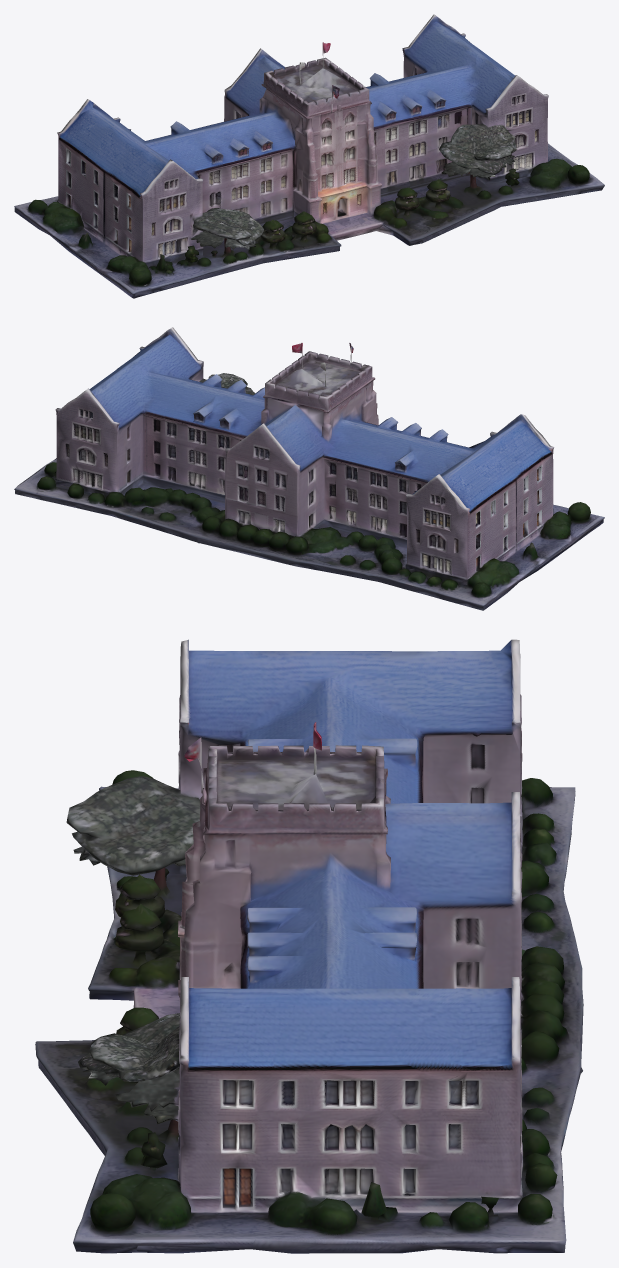
File: korea-anam-main-hall.glb
The picture shows the model from 3 angles, top to bottom: view 1: azimuth 30°, elevation 25°; view 2: azimuth 150°, elevation 25°; view 3: azimuth 270°, elevation 25°; orthographic projection. The views are drawn at different scales.
Visible parts, largest first — view 1: tripo_node_314f0d97-f520-4278-ae3b-79260e444e43; view 2: tripo_node_314f0d97-f520-4278-ae3b-79260e444e43; view 3: tripo_node_314f0d97-f520-4278-ae3b-79260e444e43.
Boxes of the visible parts, bbox=[...] form: tripo_node_314f0d97-f520-4278-ae3b-79260e444e43: bbox=[14, 14, 604, 298]; tripo_node_314f0d97-f520-4278-ae3b-79260e444e43: bbox=[14, 327, 604, 610]; tripo_node_314f0d97-f520-4278-ae3b-79260e444e43: bbox=[35, 639, 583, 1253].
Bounding box in the file's own units: 1 × 0.3237 × 0.5082.
1 material, 1 textured.
